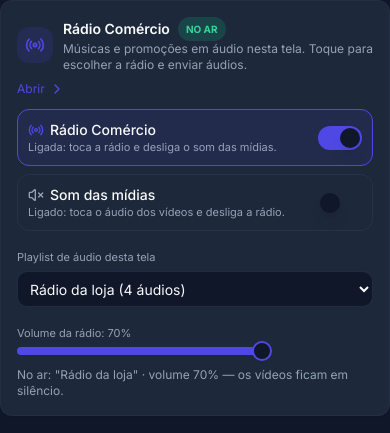
Scenario: chaves da rádio e do som das mídias › desligar a chave que está ligada deixa a tela em silêncio (mídias rodam mudas)
Click the switch with test id "radio-ligada" at (340, 138), box [318,126,362,150]
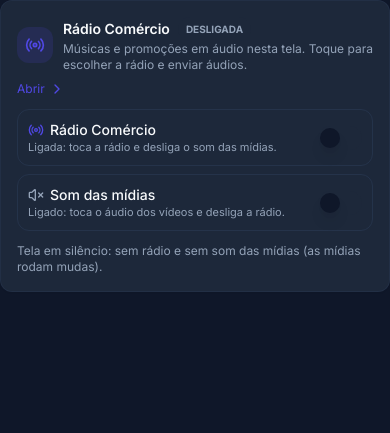
Result: the text with test id "texto-do-som" shows "Tela em silêncio" at [17,243,360,274]
